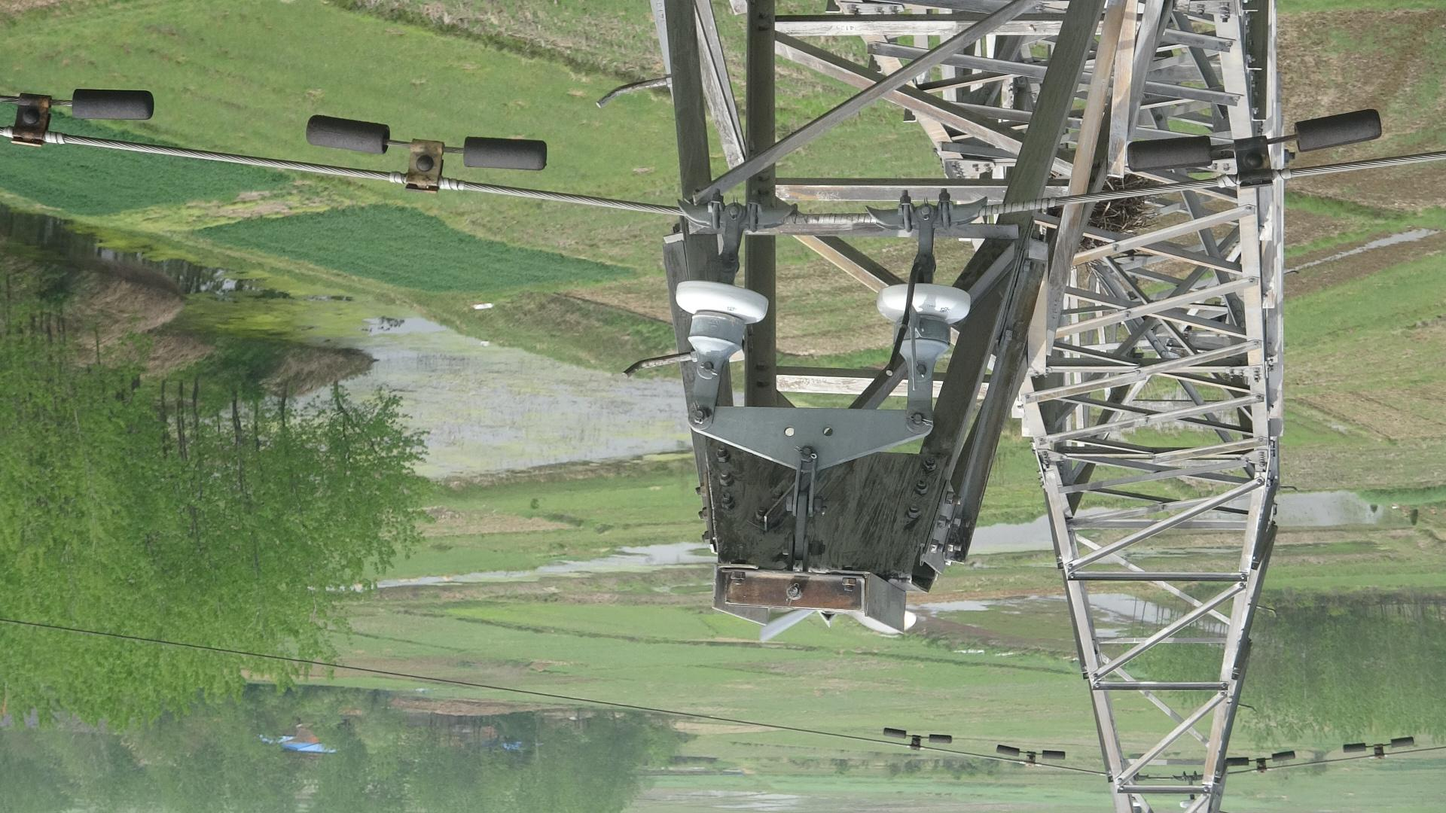damper: (1121, 99, 1390, 199), (297, 106, 554, 198), (1340, 732, 1417, 763), (1222, 747, 1298, 778), (880, 725, 956, 753), (993, 742, 1069, 770)
nest: (1088, 175, 1155, 235)
